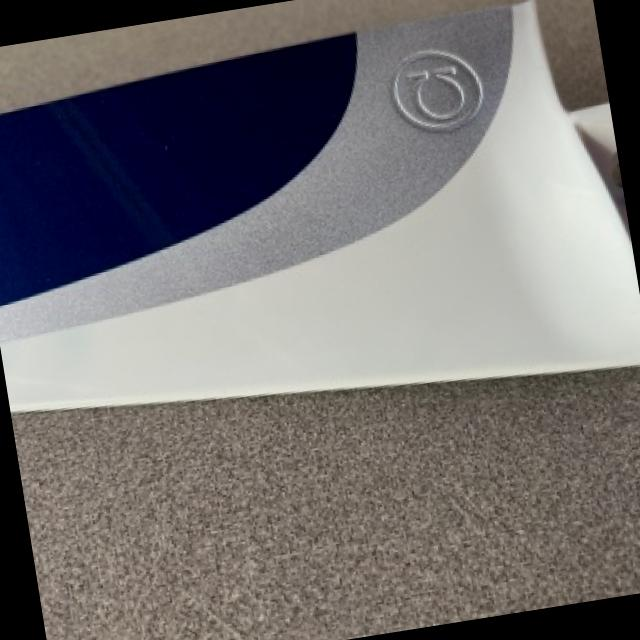healthy: (0, 0, 640, 408)
